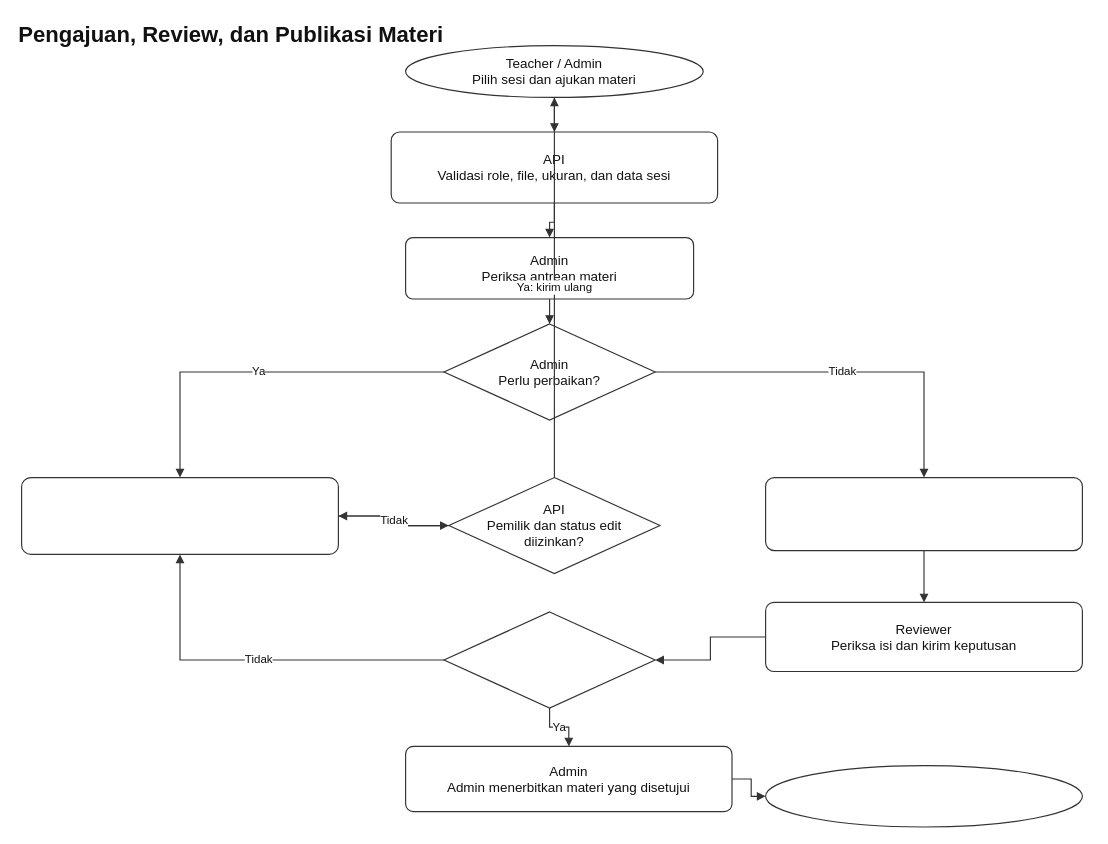
The diagram is 1108 pixels wide and 844 high, and some of its shapes have lost their labels. The shapes that lost their labels are listed below. From the top down, each one's centre as x and y in pixels, then its label:
the point at 179,515: Teacher Materi ditolak dengan catatan; pemilik memperbaiki kiriman
the point at 923,514: Admin Tugaskan reviewer dan kirim tautan terbatas
the point at 549,659: API Reviewer menyetujui?
the point at 923,796: Student Materi tampil setelah publish/sinkronisasi
